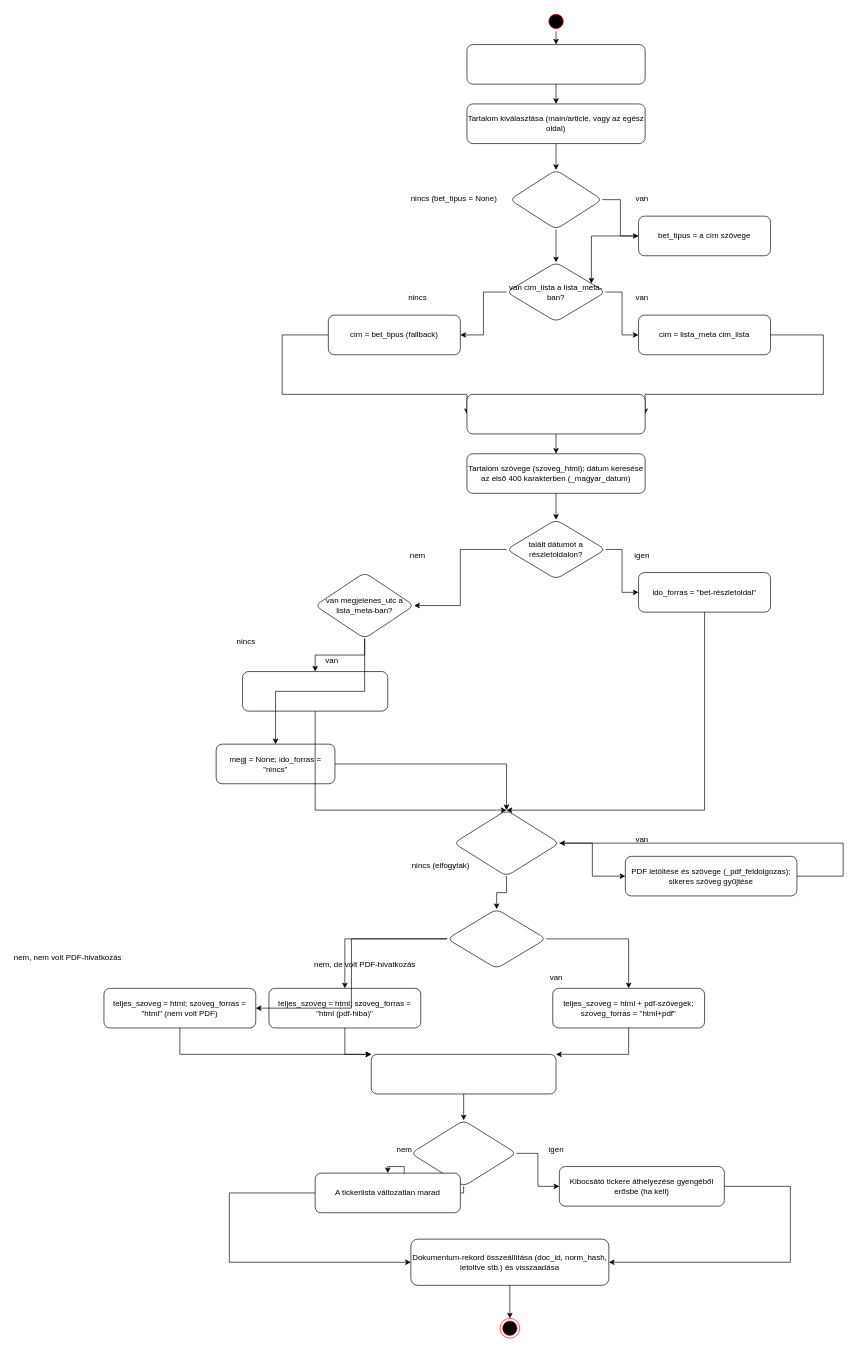
Some shapes in this 860 by 1350 pixel diagram are drawn without their labels. Each missing label, with the centre of its shape:
HTML feldolgozása (BeautifulSoup), script/style/nav/footer eltávolítása: the point at 555,64
megj = lista_meta ideje; pont = lista_meta pontossága; ido_forras = "bet-lista": the point at 315,691
PDF hivatkozások kigyűjtése (urljoin, duplikátumok eltávolítása): the point at 555,414
Tickerek meghatározása (KÖ.tickerek: cím + szöveg alapján): the point at 463,1074
van h1/h2 cím a tartalomban?: the point at 555,199
van lista_meta és ismert a kibocsátó tickere?: the point at 463,1153
van még feldolgozandó PDF-hivatkozás?: the point at 506,842
volt sikeres PDF-szöveg?: the point at 496,938
